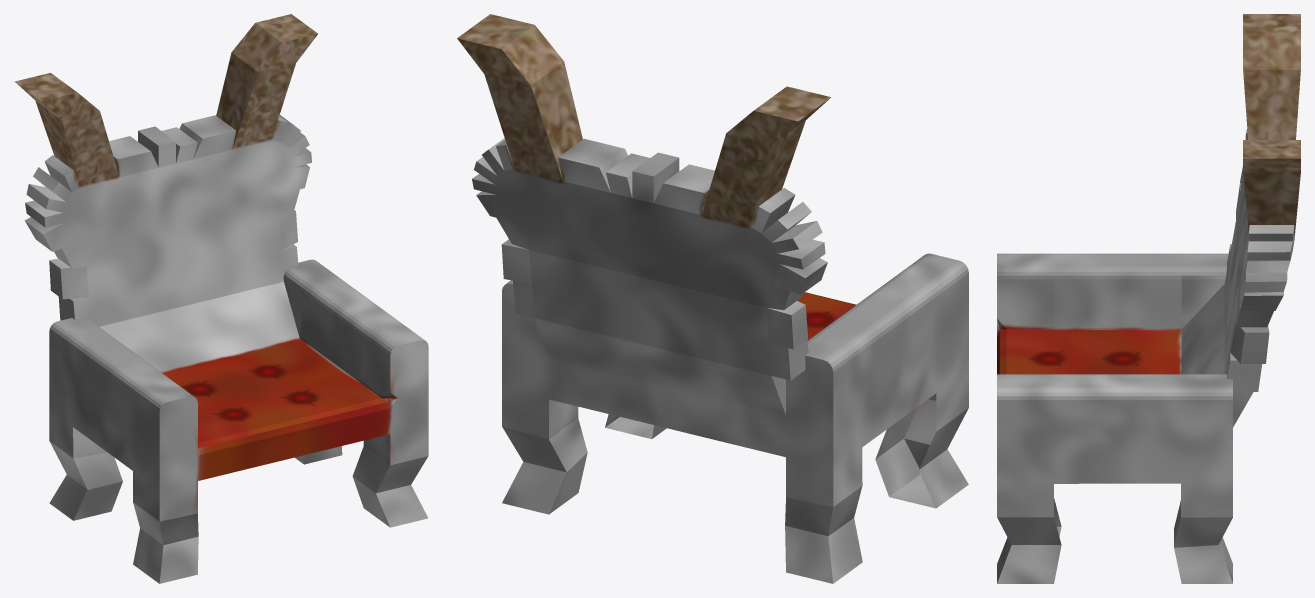
The model's file is throne.fbx.
3 renders of one model, left to right at view 1: azimuth 30°, elevation 25°; view 2: azimuth 150°, elevation 25°; view 3: azimuth 270°, elevation 25°, orthographic. The views are drawn at different scales.
Visible parts, largest first — view 1: UnitCube_measure:pCube1; view 2: UnitCube_measure:pCube1; view 3: UnitCube_measure:pCube1.
Part boxes in pixels (<box>): UnitCube_measure:pCube1: <box>14,14,428,583</box>; UnitCube_measure:pCube1: <box>457,14,968,583</box>; UnitCube_measure:pCube1: <box>997,14,1300,583</box>.
Size of the model in its own units: 172 by 236 by 152.
